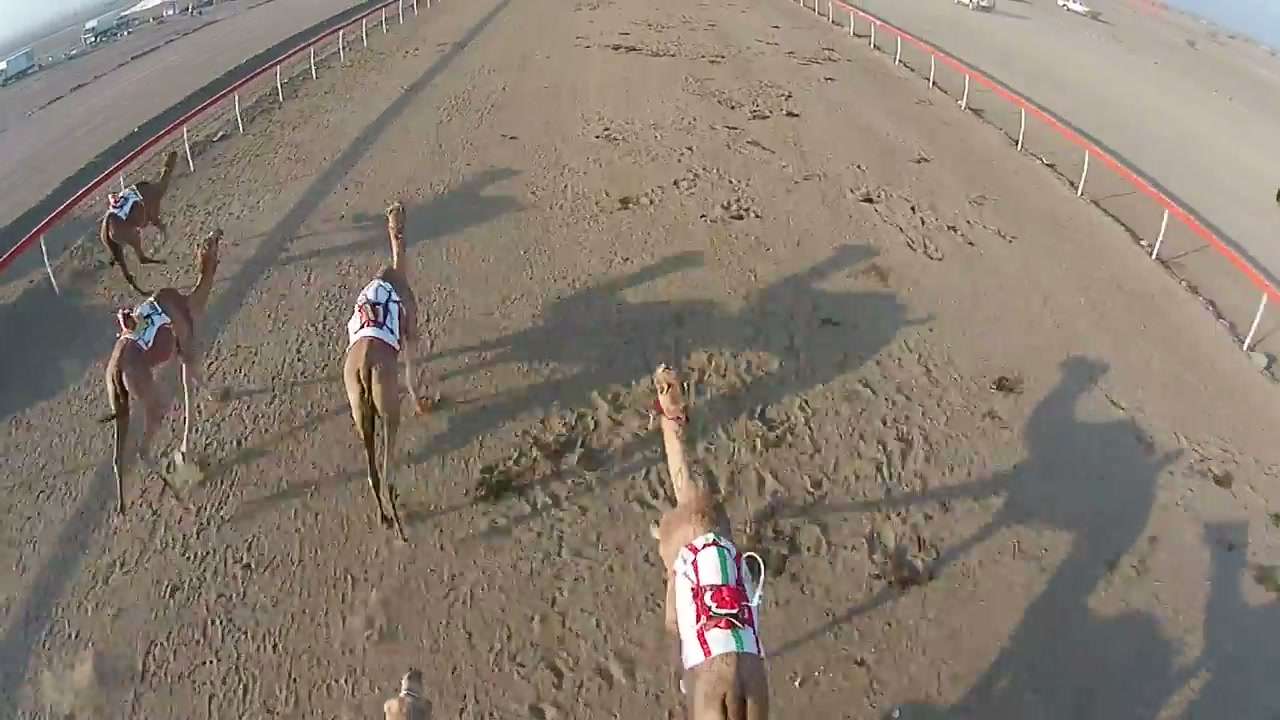animal_footprint: (133, 488, 302, 717), (404, 520, 559, 719)
